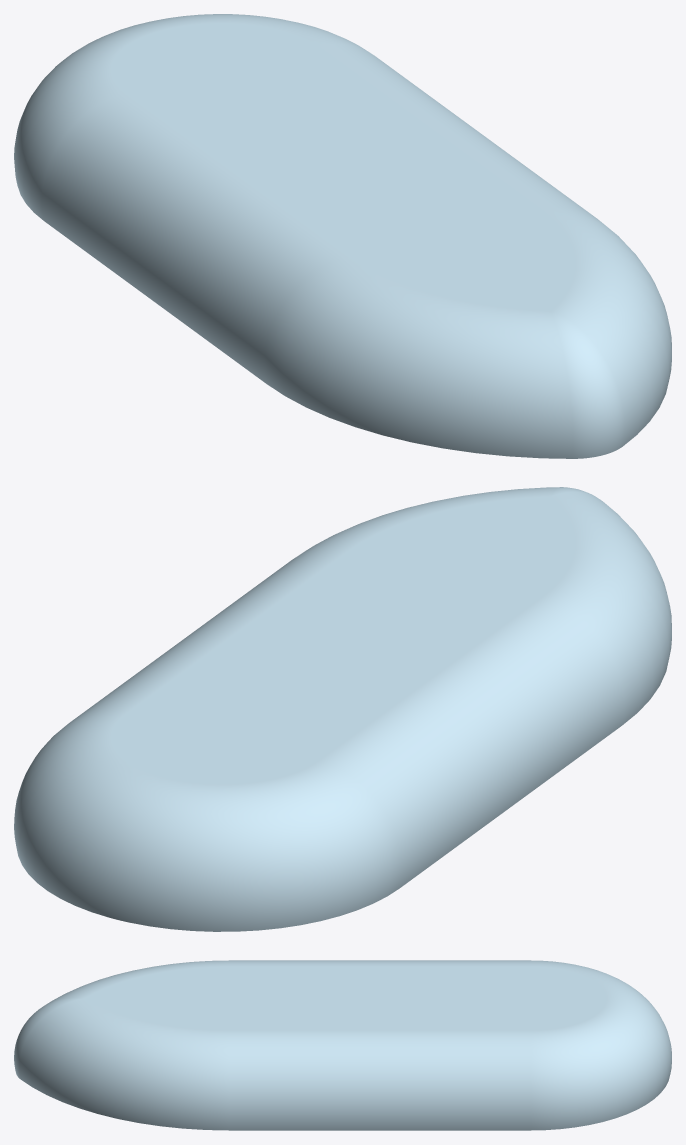
Rendered from sole 1.gltf.
The picture shows the model from 3 angles, top to bottom: view 1: azimuth 30°, elevation 25°; view 2: azimuth 150°, elevation 25°; view 3: azimuth 270°, elevation 25°; orthographic projection. The views are drawn at different scales.
Visible parts, largest first — view 1: Part 1; view 2: Part 1; view 3: Part 1.
Part boxes in pixels (x1,y1,x2,y2): Part 1: (14, 14, 671, 458); Part 1: (14, 487, 671, 931); Part 1: (14, 960, 671, 1130).
Size of the model in its own units: 0.056 by 0.016 by 0.1306.
